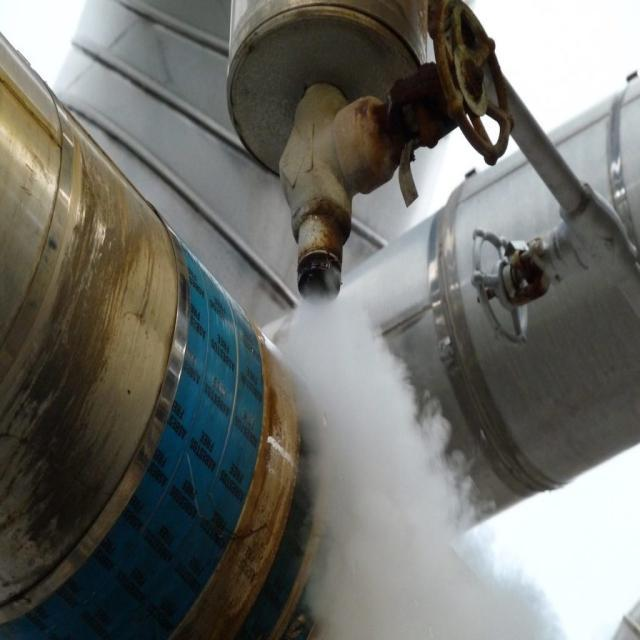Smoke: (275, 293, 568, 640)
